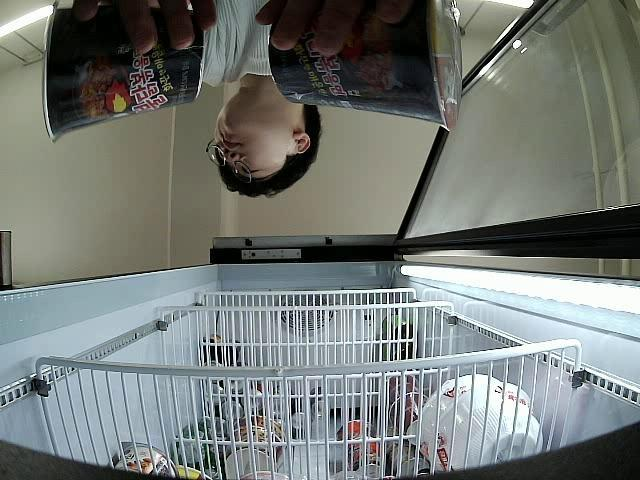08_buldak_S: (268, 0, 464, 134), (42, 8, 207, 142)
